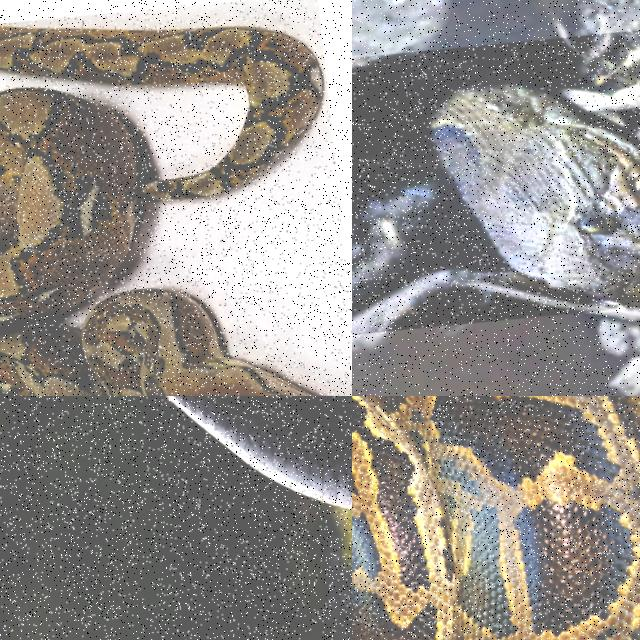Daboia siamensis: (352, 55, 639, 306)
Malayopython reticulatus: (0, 22, 321, 395)
Ophiophagus hannah: (168, 396, 351, 507)
Python bivittatus: (352, 396, 639, 639)
